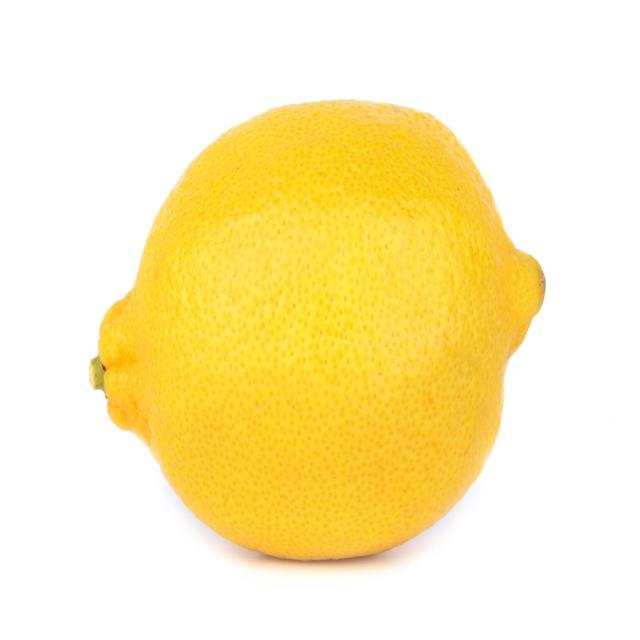lemon: (85, 94, 549, 576)
